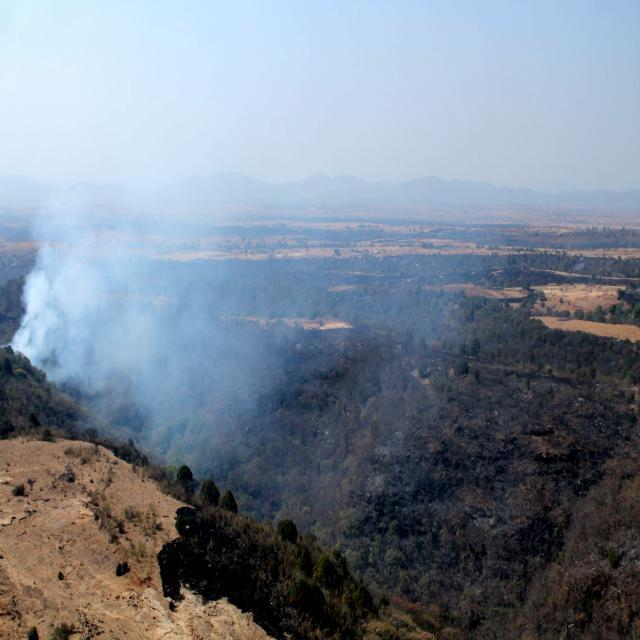Smoke: (3, 0, 376, 478)
